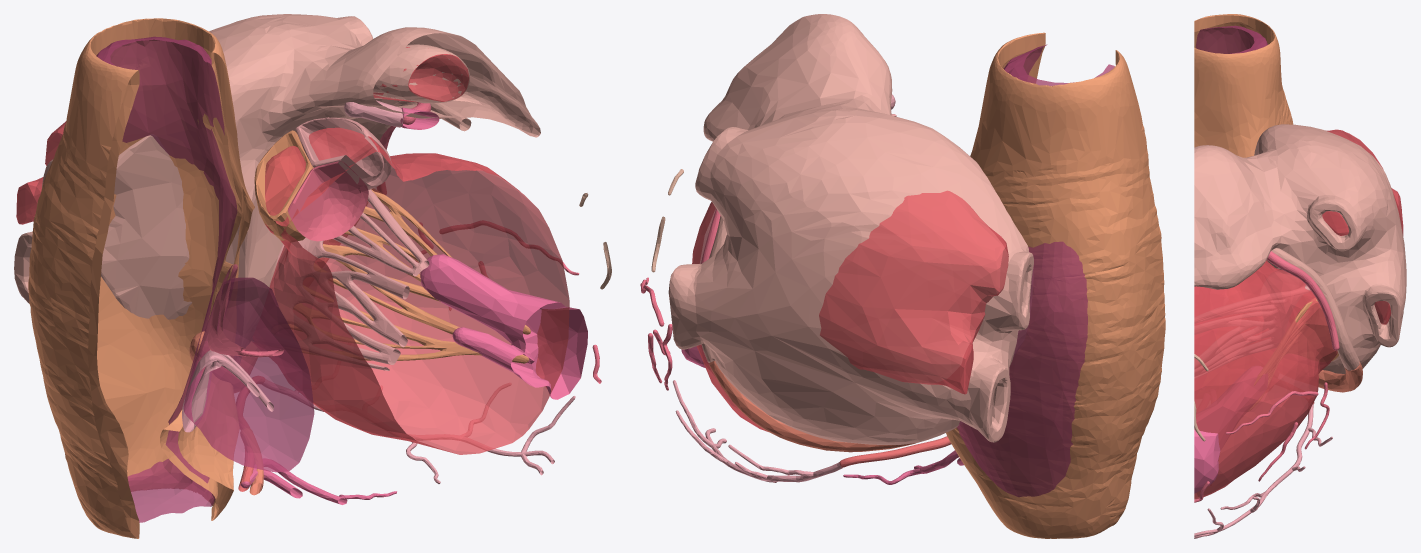
File: cuore_interno.glb
The picture shows the model from 3 angles, left to right: view 1: azimuth 30°, elevation 25°; view 2: azimuth 150°, elevation 25°; view 3: azimuth 270°, elevation 25°; orthographic projection. The views are drawn at different scales.
Visible parts, largest first — view 1: wall of right atrium, cavity of left ventricle, wall of left atrium, cavity of right atrium, cavity of right ventricle, anterior wall of left ventricle, anterior leaflet of mitral valve, inferior wall of left ventricle, anterior cusp of aortic valve, left posterior cusp of aortic valve, right posterior cusp of aortic valve, cavity of left atrium (+9 smaller); view 2: wall of left atrium, wall of right atrium, cavity of left atrium, cavity of right atrium, coronary sinus, first posterior ventricular branch of right coronary artery, circumflex branch of left coronary artery, cavity of left ventricle, trunk of right coronary artery, posterior interventricular branch of right coronary artery; view 3: wall of left atrium, cavity of left ventricle, wall of right atrium, anterior leaflet of mitral valve, anterior wall of left ventricle, inferior wall of left ventricle, circumflex branch of left coronary artery, cavity of right atrium, great cardiac vein, first posterior ventricular branch of right coronary artery, cavity of left atrium, coronary sinus.
Boxes of the visible parts, x1,y1,x2,y2 form: wall of right atrium: (28, 18, 254, 538); cavity of left ventricle: (253, 127, 569, 454); wall of left atrium: (14, 14, 540, 364); cavity of right atrium: (96, 36, 237, 522); cavity of right ventricle: (183, 277, 314, 472); anterior wall of left ventricle: (420, 254, 587, 399); anterior leaflet of mitral valve: (252, 189, 429, 370); inferior wall of left ventricle: (289, 189, 530, 363); anterior cusp of aortic valve: (288, 160, 368, 241); left posterior cusp of aortic valve: (295, 117, 391, 189); right posterior cusp of aortic valve: (254, 130, 313, 241); cavity of left atrium: (16, 47, 469, 224); wall of left atrium: (668, 14, 1033, 444); wall of right atrium: (946, 32, 1165, 538); cavity of left atrium: (819, 190, 1008, 394); cavity of right atrium: (957, 44, 1114, 497); coronary sinus: (709, 361, 915, 452); first posterior ventricular branch of right coronary artery: (673, 380, 843, 482); circumflex branch of left coronary artery: (640, 208, 720, 390); cavity of left ventricle: (692, 202, 767, 431); trunk of right coronary artery: (839, 436, 951, 467); posterior interventricular branch of right coronary artery: (843, 450, 963, 484); wall of left atrium: (1194, 124, 1406, 373); cavity of left ventricle: (1194, 260, 1337, 499); wall of right atrium: (1194, 14, 1293, 157); anterior leaflet of mitral valve: (1195, 268, 1310, 378); anterior wall of left ventricle: (1194, 366, 1267, 493); inferior wall of left ventricle: (1249, 298, 1338, 410); circumflex branch of left coronary artery: (1194, 251, 1339, 502); cavity of right atrium: (1196, 25, 1267, 53); great cardiac vein: (1271, 248, 1359, 370); first posterior ventricular branch of right coronary artery: (1194, 403, 1332, 538); cavity of left atrium: (1322, 129, 1403, 324); coronary sinus: (1318, 361, 1362, 392).
Size of the model in its own units: 114 by 103 by 53.17.
